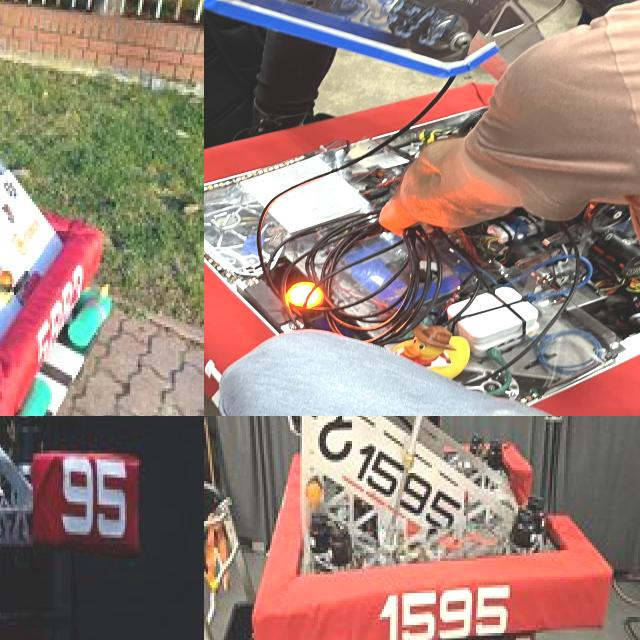FRC-Robots: (204, 47, 640, 416), (204, 416, 640, 640), (0, 0, 204, 416), (0, 416, 176, 625)
